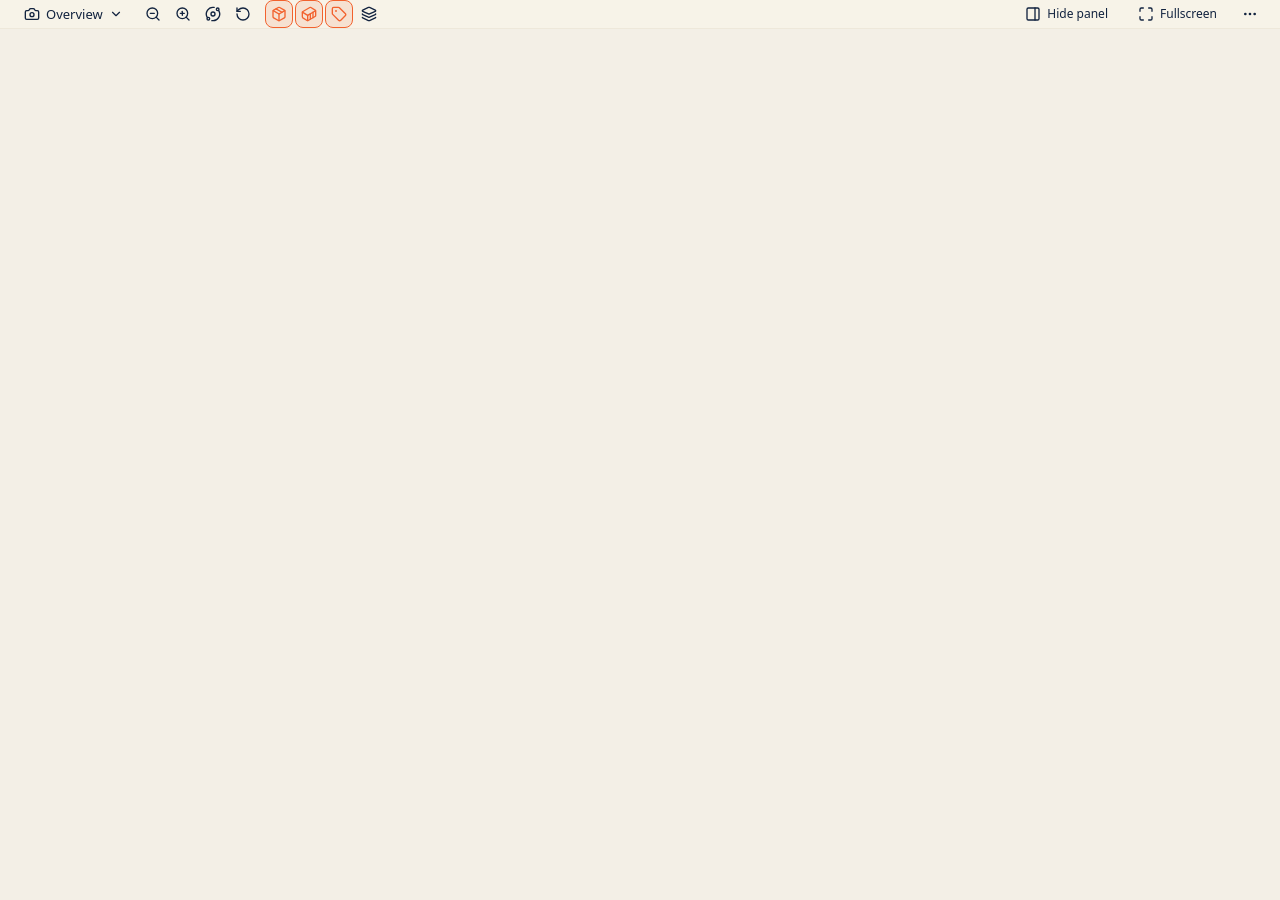
Test: tool strip (Monitor) › opens Help and legend from More: accuracy, synthetic, keyboard and attribution
This screenshot has width=1280, height=900.
Click the button named "More" at {"x": 1250, "y": 14}, box [1236,0,1264,28]
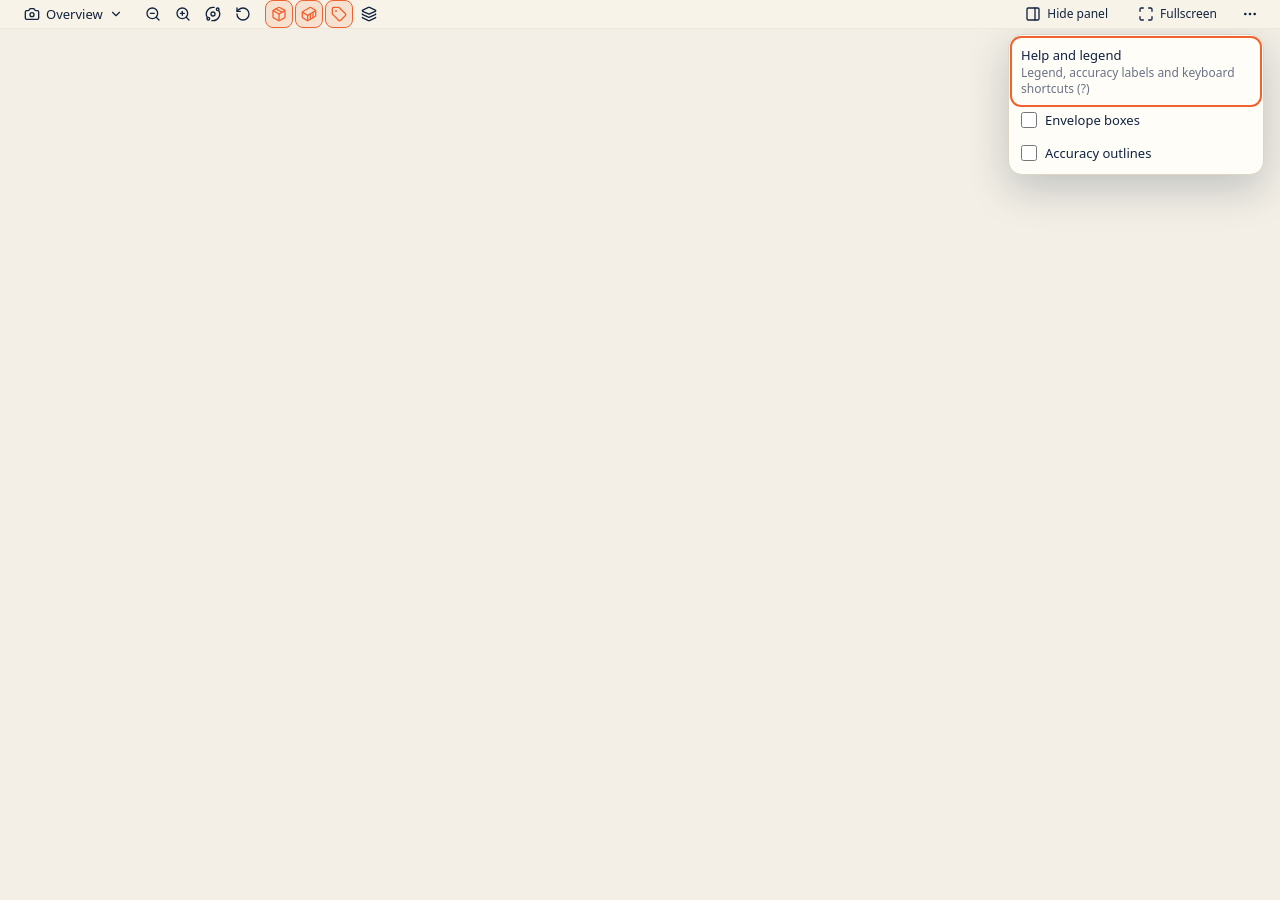
Click the button "Help and legend" at {"x": 1136, "y": 71}, box [1013,39,1259,104]
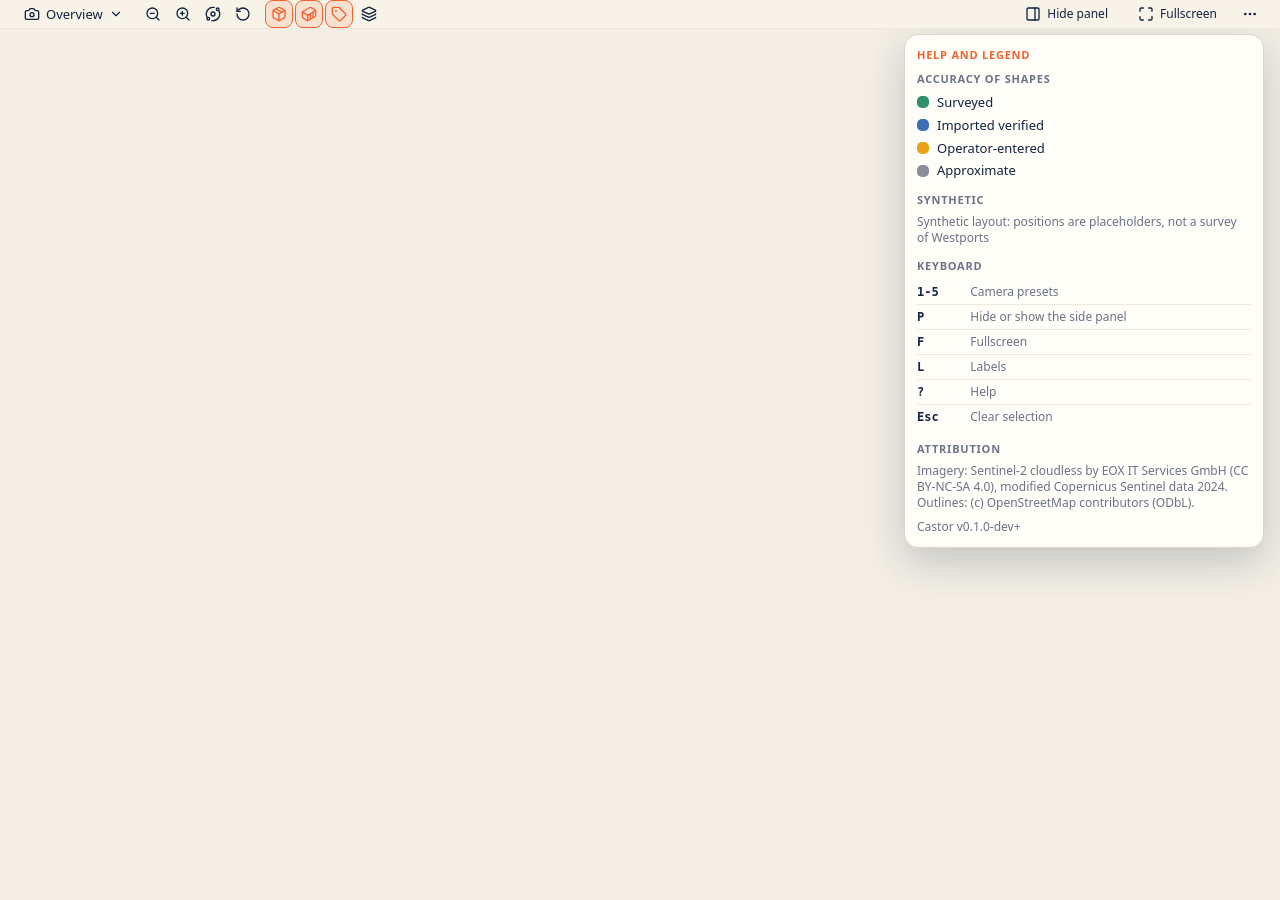
Expected: the list item "Surveyed" is shown, [917,93,993,111]
Expected: the list item "Imported verified" is shown, [917,116,1044,134]
Expected: the list item "Operator-entered" is shown, [917,139,1045,157]
